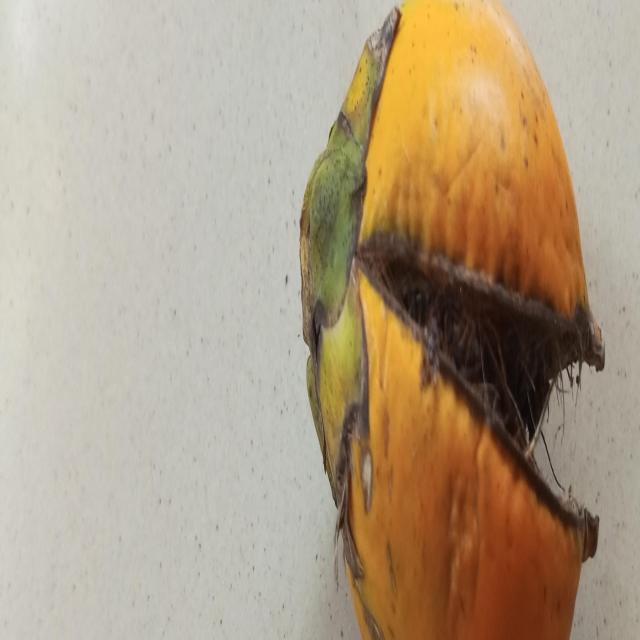damaged: (299, 0, 605, 640)
